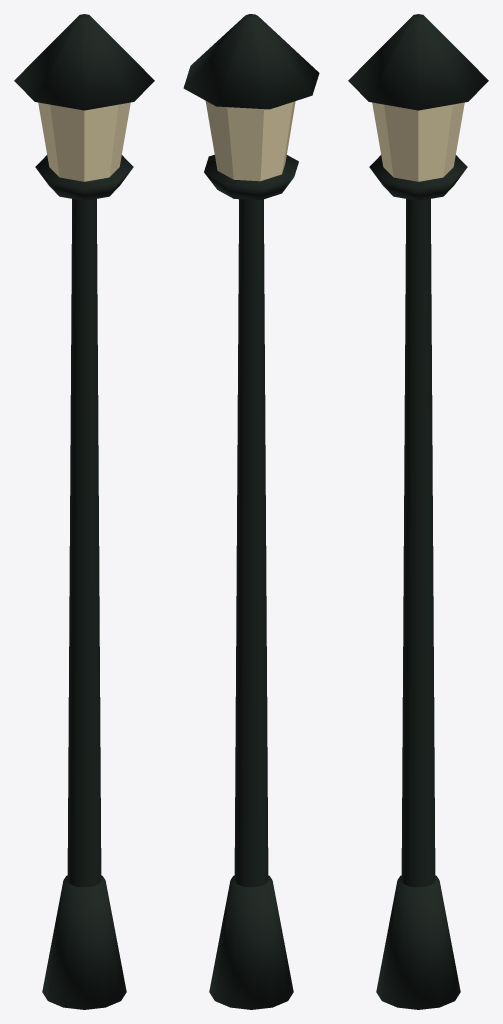
The model's file is LampPost.glb.
3 renders of one model, left to right at view 1: azimuth 90°, elevation 25°; view 2: azimuth 150°, elevation 25°; view 3: azimuth 270°, elevation 25°, orthographic.
Visible parts, largest first — view 1: Post, Lantern; view 2: Post, Lantern; view 3: Post, Lantern.
Part boxes in pixels (x1,y1,x2,y2): Post: (14,14,154,1009); Lantern: (38,102,130,181); Post: (183,14,319,1009); Lantern: (205,101,295,181); Post: (348,14,488,1009); Lantern: (372,102,464,181).
Bounding box in the file's own units: 0.4 × 3.05 × 0.4.
